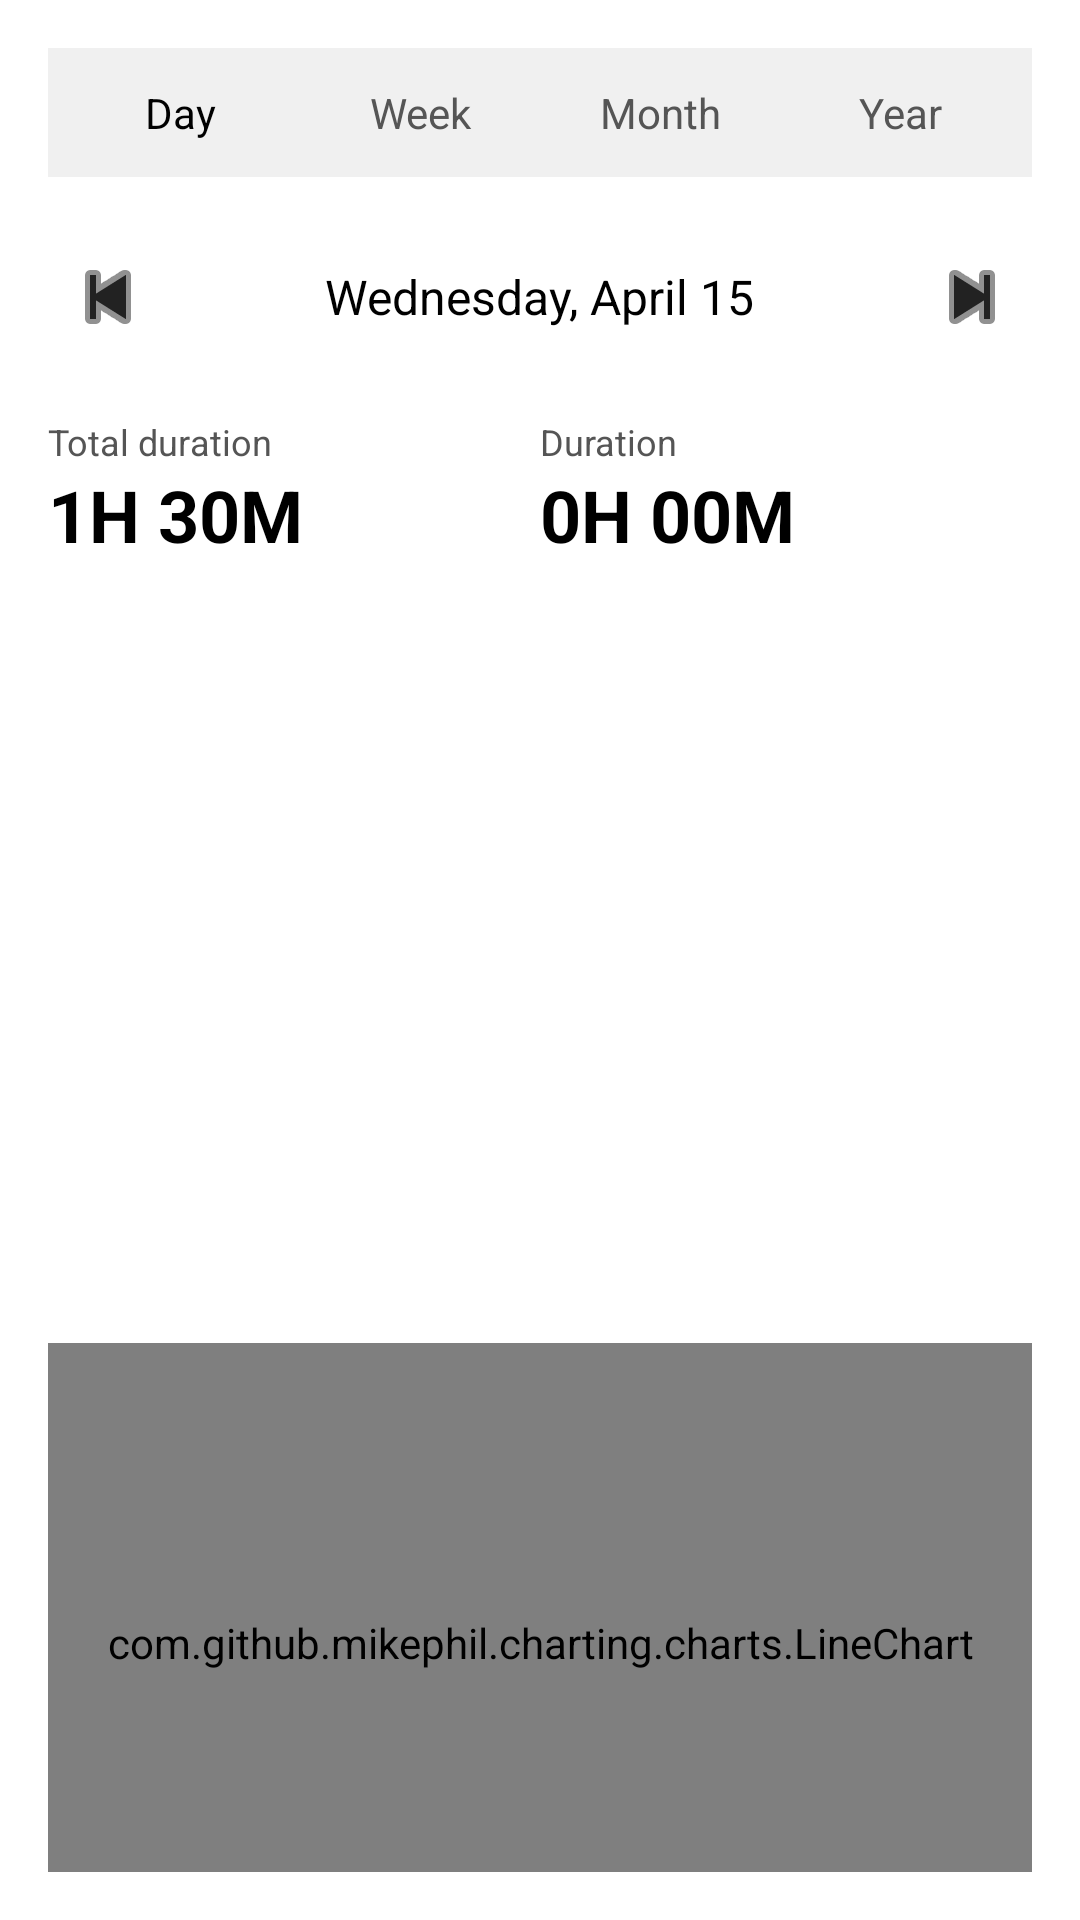

Named icons in this screenshot (1080w x 1920h) and their centers, point (x, y):
Next Period: point (972, 297)
Previous Period: point (108, 297)
